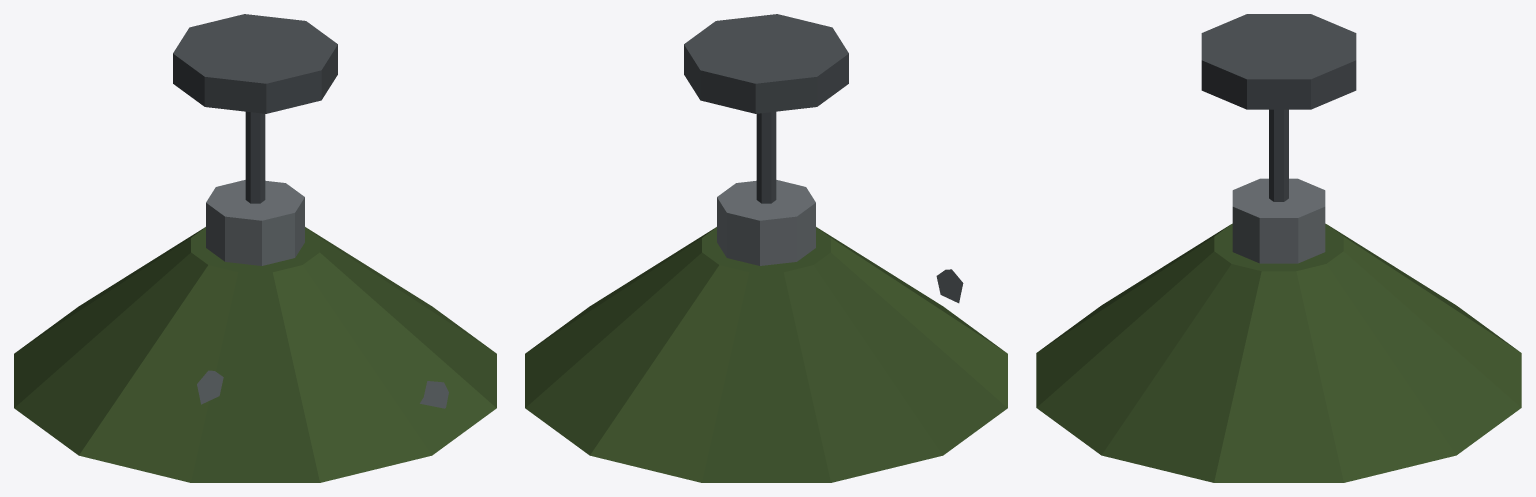
File: lamp_ceiling_podvesnaya_s_abazhurom_idle.glb
3 renders of one model, left to right at view 1: azimuth 30°, elevation 25°; view 2: azimuth 150°, elevation 25°; view 3: azimuth 270°, elevation 25°, orthographic.
Parts seen in each view (by area): view 1: lamp_ceiling_podvesnaya_s_abazhurom_idle; view 2: lamp_ceiling_podvesnaya_s_abazhurom_idle; view 3: lamp_ceiling_podvesnaya_s_abazhurom_idle.
Part boxes in pixels (x1,y1,x2,y2): lamp_ceiling_podvesnaya_s_abazhurom_idle: (14,14,496,482); lamp_ceiling_podvesnaya_s_abazhurom_idle: (525,14,1007,482); lamp_ceiling_podvesnaya_s_abazhurom_idle: (1036,14,1521,482).
Size of the model in its own units: 0.2898 by 0.25 by 0.2898.
Materials: 2 (2 with a texture image).
